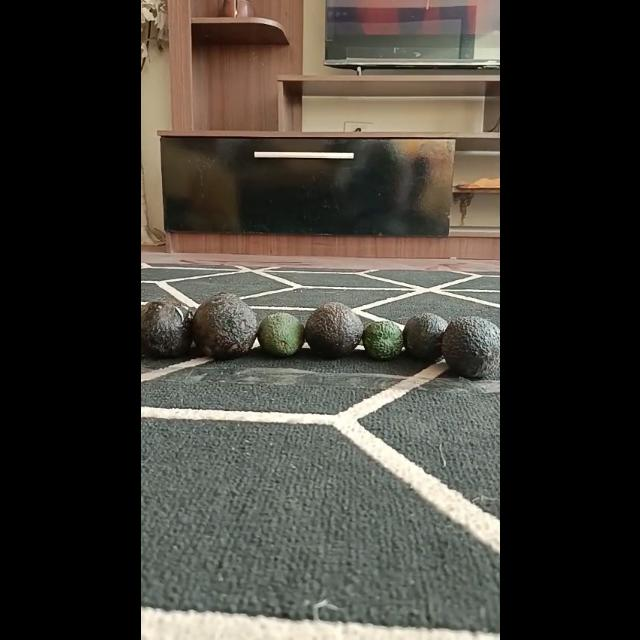Primera: (190, 293, 258, 359), (440, 315, 498, 379), (303, 302, 362, 358), (140, 298, 192, 358)
Segunda: (402, 314, 448, 361), (256, 313, 304, 357)
Tercera: (362, 320, 404, 360)
